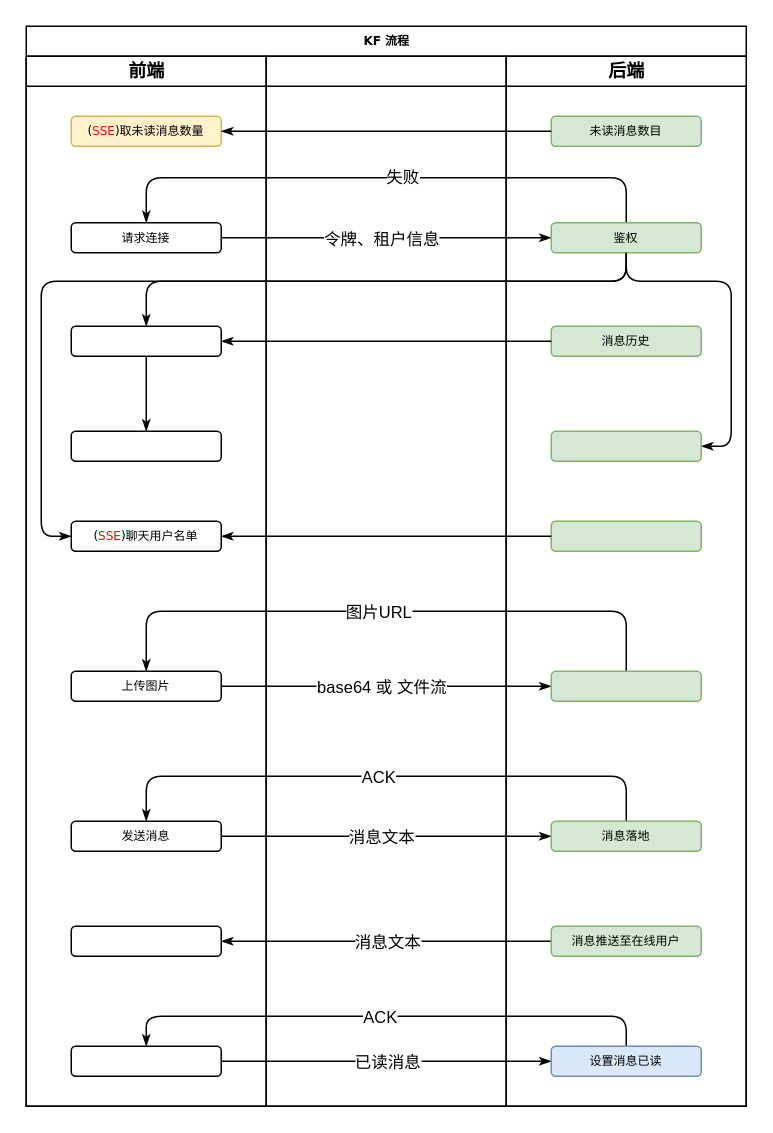
The diagram is 773 pixels wide and 1133 high, and some of its shapes have lost their labels. Here are the shapes that lost their labels. From the top down, the centre of each, then its label:
At (x=145, y=340): "拉取最近聊天历史".
At (x=145, y=445): "订阅消息".
At (x=625, y=445): "登记连接会话".
At (x=625, y=535): "用户名单和在线状况".
At (x=625, y=685): "存储图片".
At (x=145, y=940): "在线接收消息".
At (x=145, y=1060): "检测到未读消息被读取".
